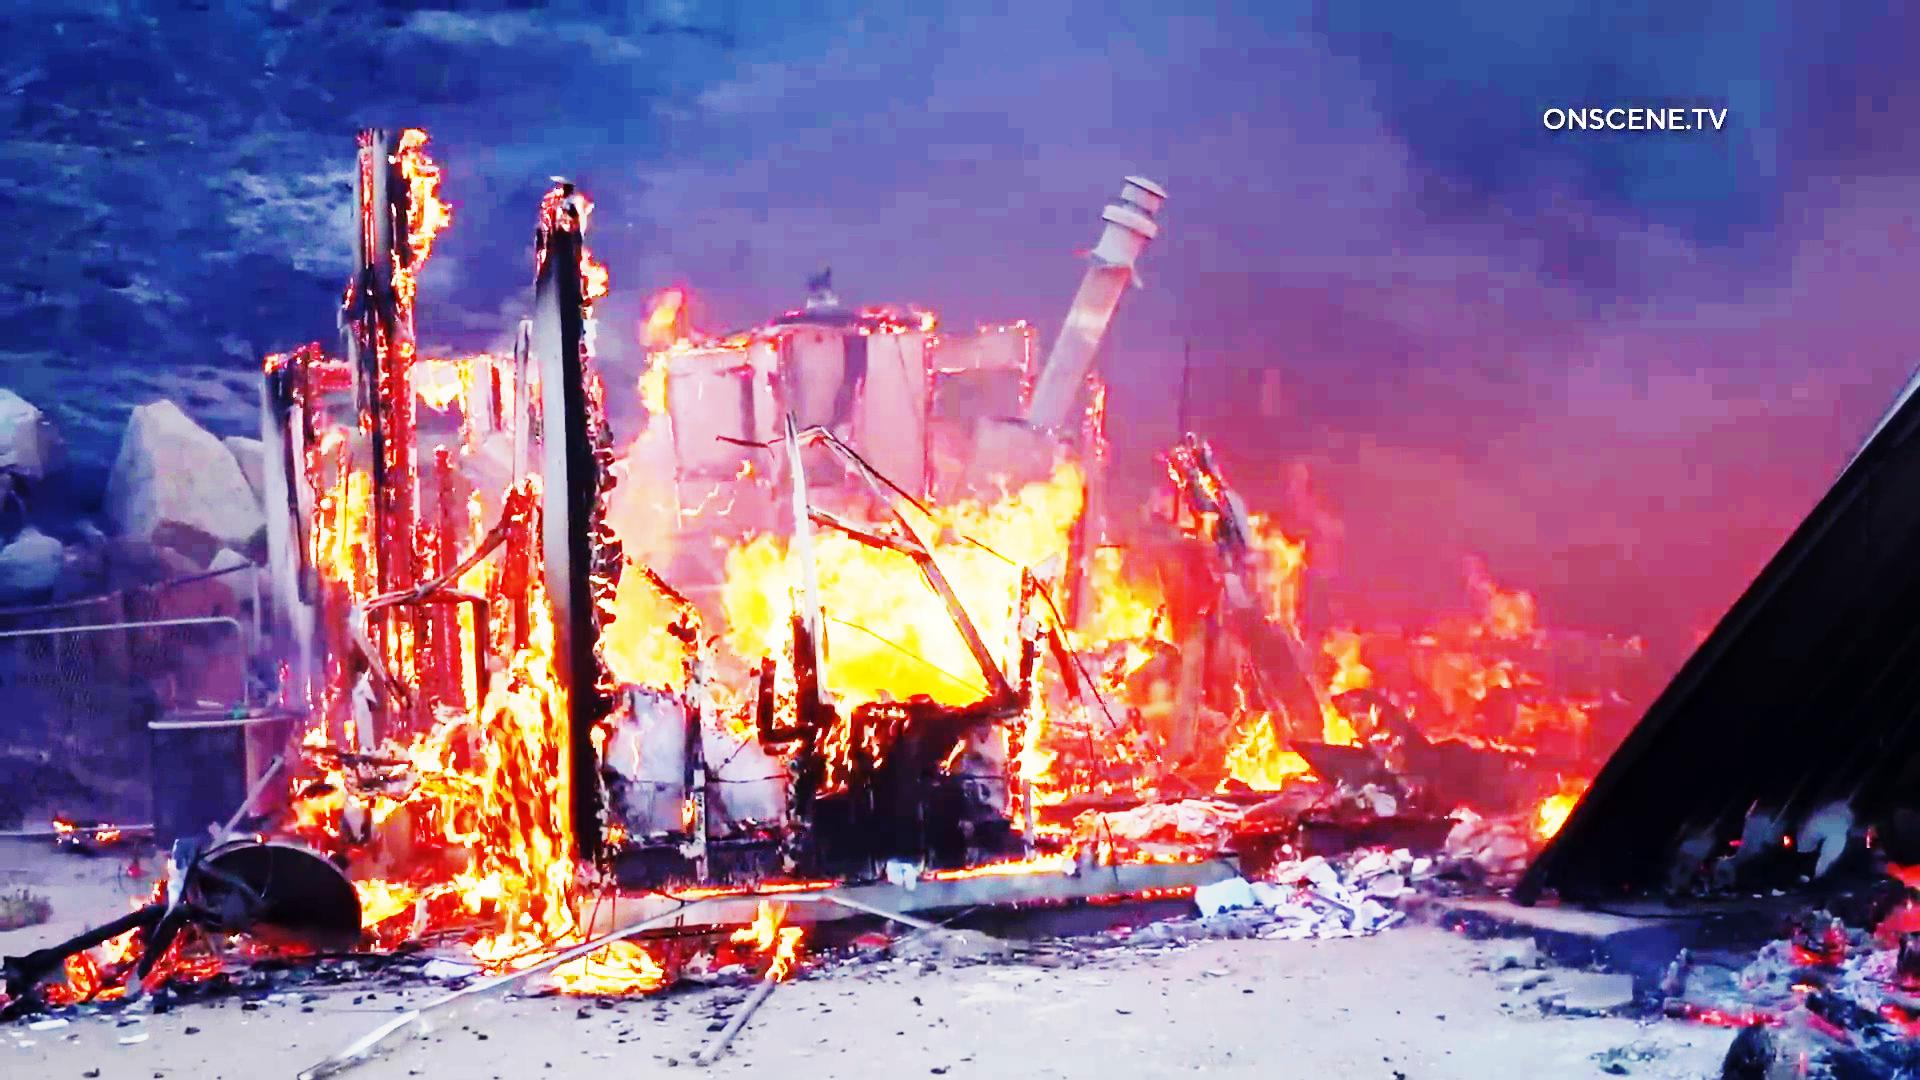fire: (825, 516, 1001, 708)
smoke: (1269, 243, 1772, 456)
